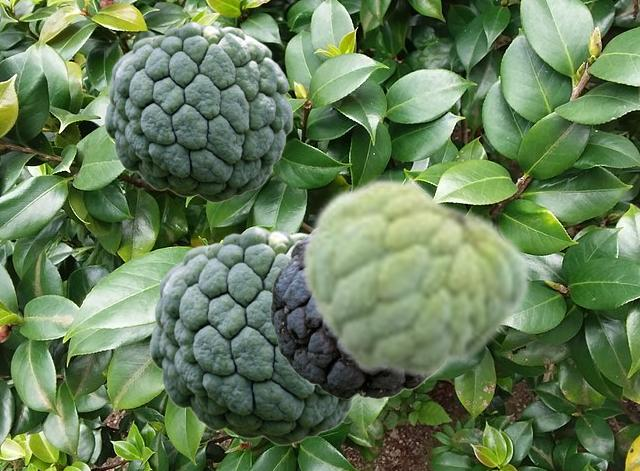atis: (299, 175, 530, 380), (149, 226, 357, 445), (104, 21, 292, 202), (270, 235, 426, 398)
